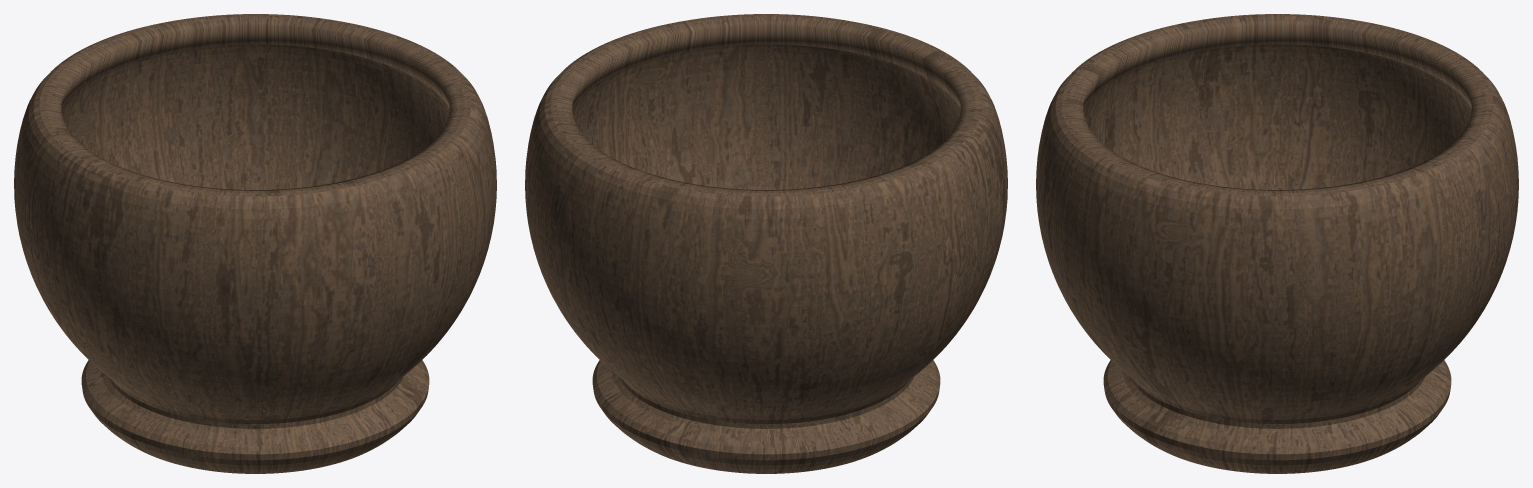
File: Bowl.fbx
3 renders of one model, left to right at view 1: azimuth 30°, elevation 25°; view 2: azimuth 150°, elevation 25°; view 3: azimuth 270°, elevation 25°, orthographic.
Parts seen in each view (by area): view 1: Sphere; view 2: Sphere; view 3: Sphere.
Boxes of the visible parts, x1,y1,x2,y2 form: Sphere: (14, 14, 496, 473); Sphere: (525, 14, 1007, 473); Sphere: (1036, 14, 1518, 473).
Size of the model in its own units: 30.46 by 21.59 by 30.46.
Materials: 1 (1 with a texture image).
